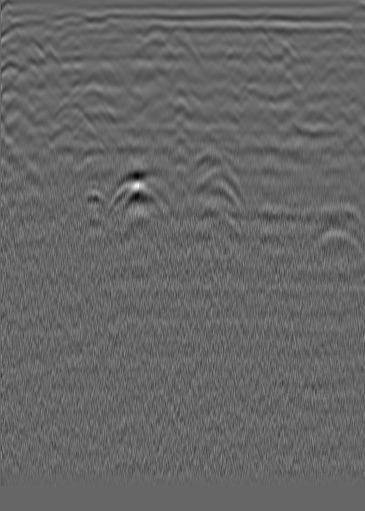가스: (74, 182, 104, 215)
상수: (310, 43, 330, 63)
오수: (22, 37, 42, 57)
우수: (167, 44, 187, 64)
